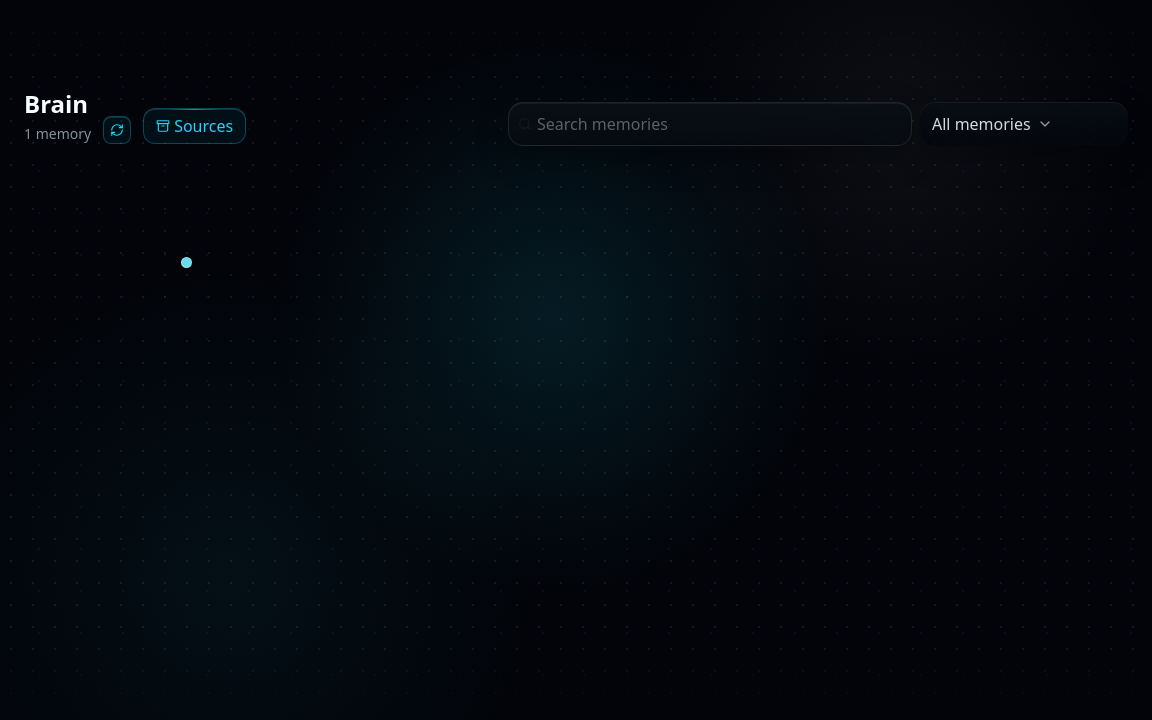
BrainPage › surfaces canonical memory context for vague topic nodes
The width and height of the screenshot is (1152, 720).
Click the button named "closures in JavaScript" at (186, 262), box x1=170 y1=246 x2=202 y2=278
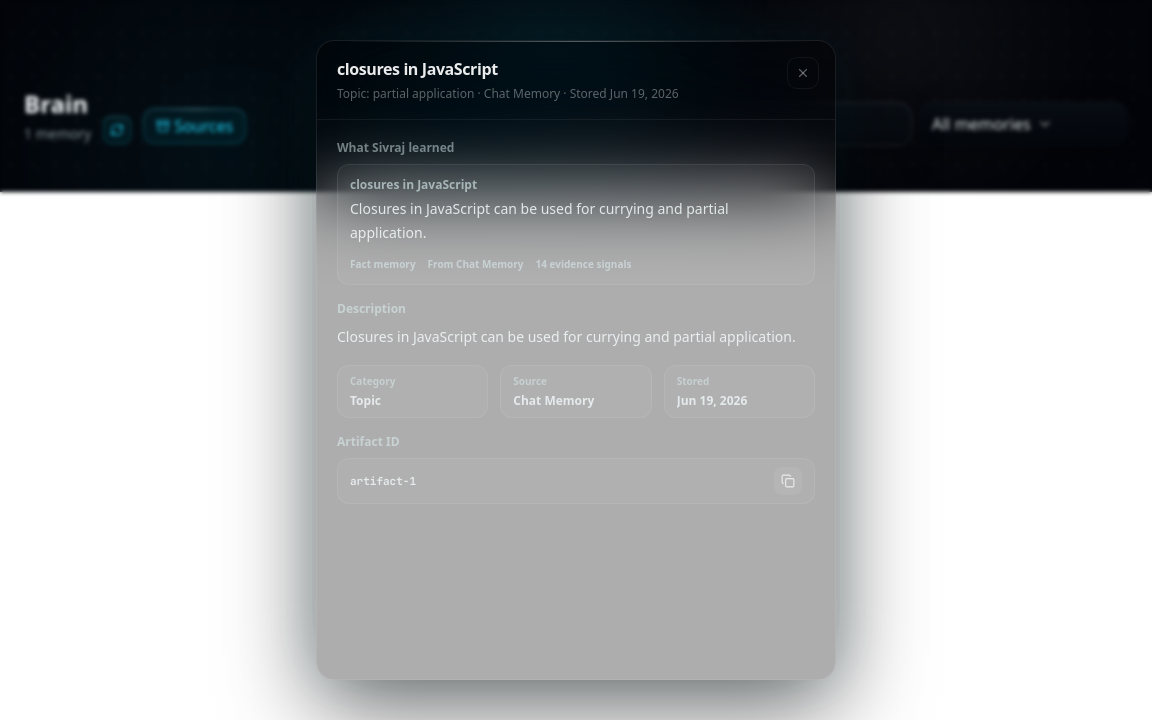
Check: the heading "closures in JavaScript" is shown, box x1=337 y1=58 x2=498 y2=80
Check: the text "Topic: partial application · Chat Memory · Stored" is shown, box x1=337 y1=85 x2=679 y2=102
Check: the text "What Sivraj learned" is shown, box x1=337 y1=139 x2=454 y2=156
